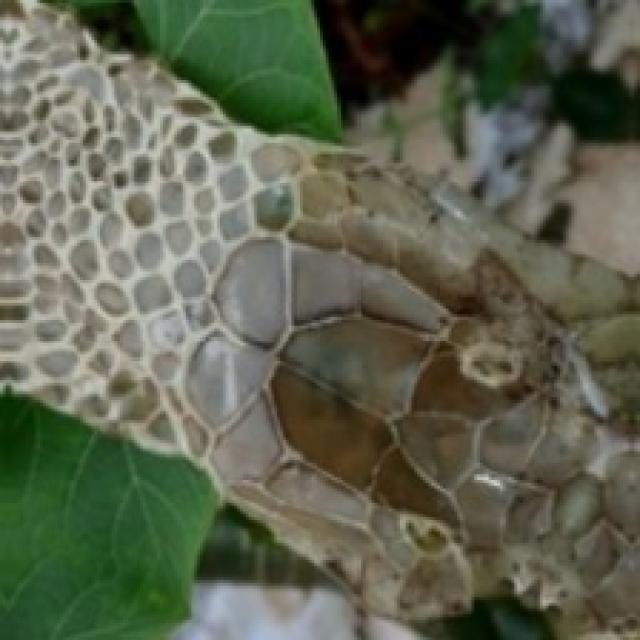king cobra: (0, 3, 637, 637)
